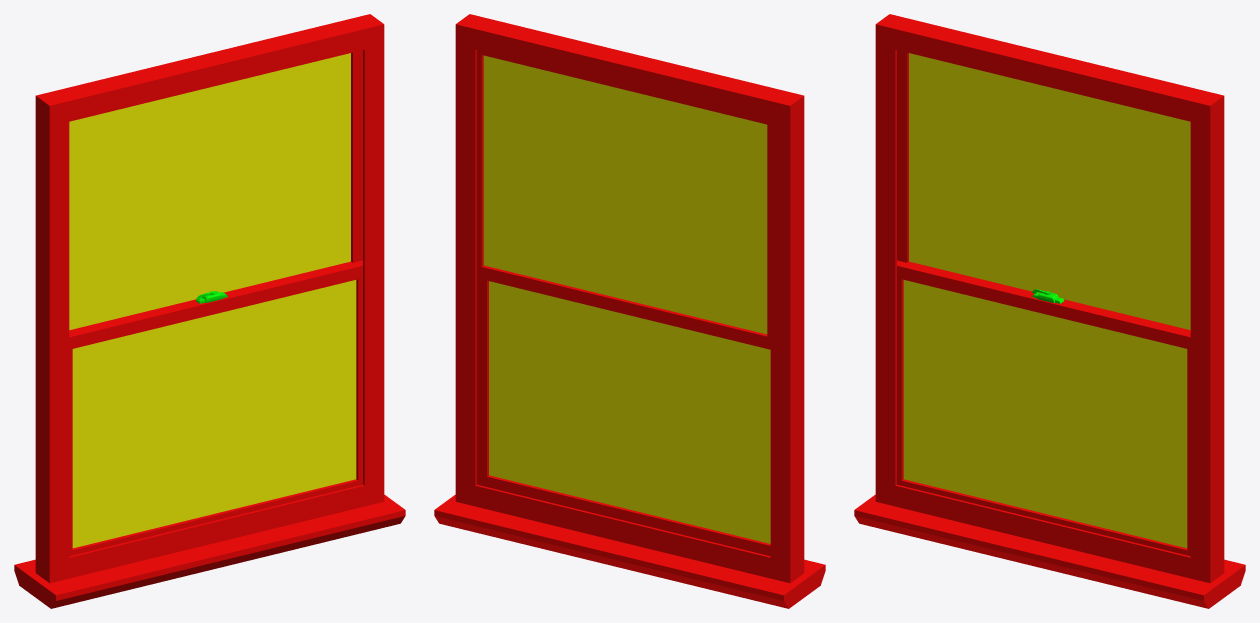
File: window_hung_44x60.glb
3 views of the same model, side by side, from view 1: azimuth 30°, elevation 25°; view 2: azimuth 150°, elevation 25°; view 3: azimuth 330°, elevation 25° (orthographic).
Parts seen in each view (by area): view 1: window_hung_44x60; view 2: window_hung_44x60; view 3: window_hung_44x60.
Boxes of the visible parts, left/top/right/bottom form: window_hung_44x60: left=14, top=14, right=405, bottom=608; window_hung_44x60: left=434, top=14, right=825, bottom=608; window_hung_44x60: left=854, top=14, right=1245, bottom=608.
Size of the model in its own units: 1.17 by 1.58 by 0.2416.
